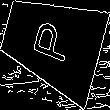P_W: (28, 18, 76, 68)
